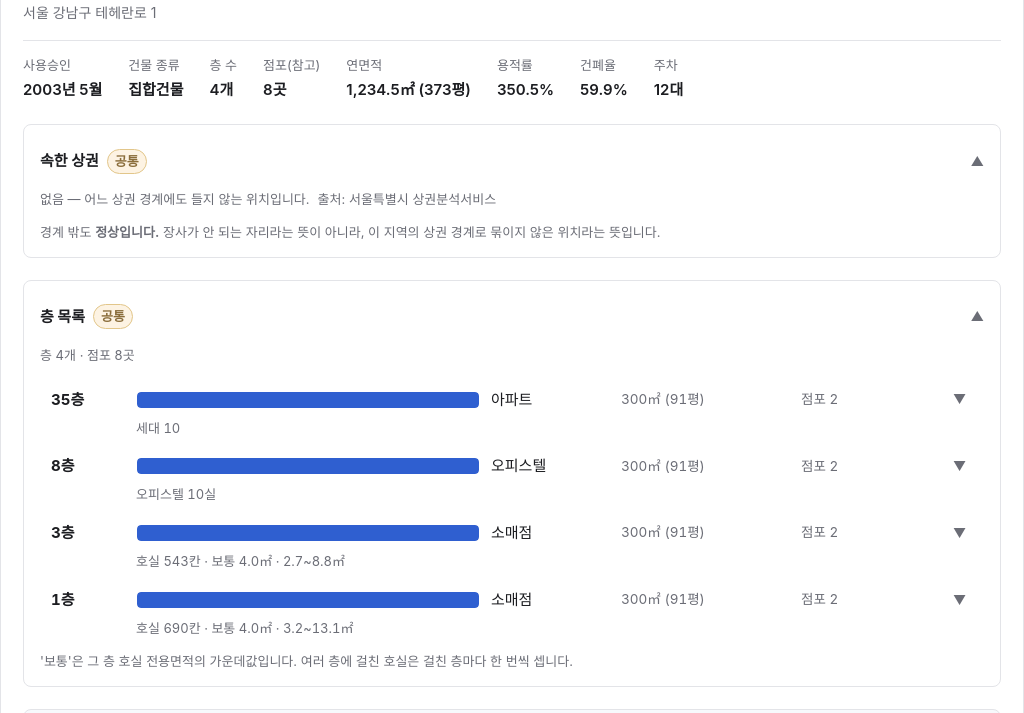
it: FloorStack — 호실 구성표 (결정 0032) › 목록 제공 층(commercial)에는 섞임 안내를 붙이지 않는다
expect the number of elements with class "floor__units" is 4: met, box [136, 420, 180, 436]; [136, 486, 216, 502]; [136, 553, 345, 569]; [136, 620, 354, 636]
Click the button with class "floor__row" showing "1층 소매점 300㎡ (91평) 점포 2 ▼".
click(512, 600)  # box [40, 578, 984, 622]
(page scrolled)
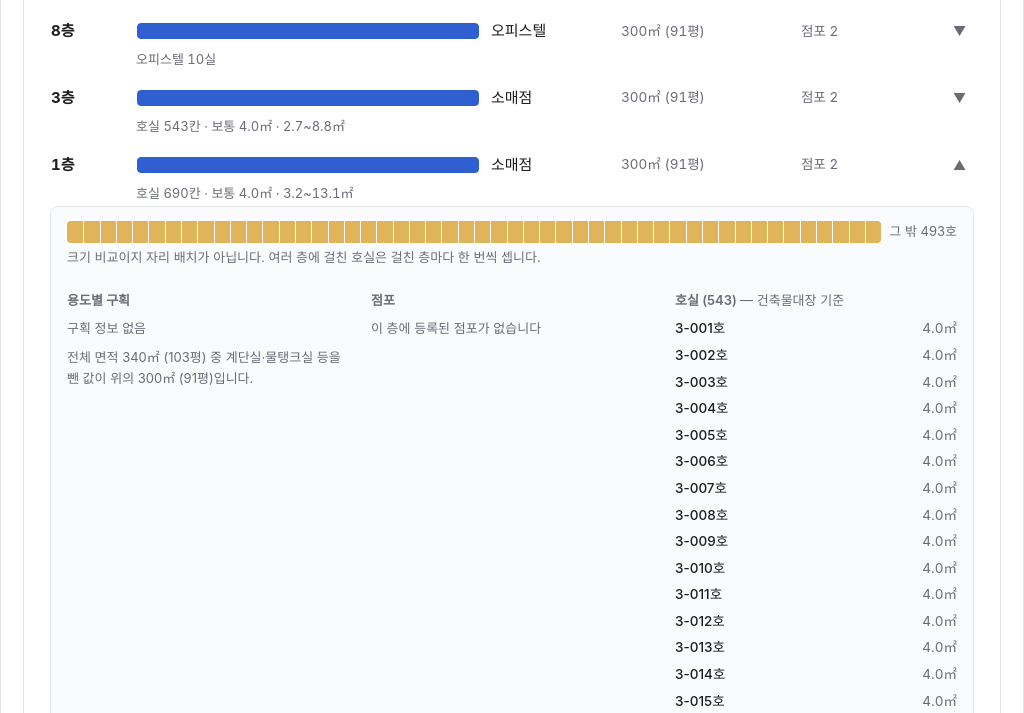
expect the list item "3-001호 4.0㎡" is shown: met, box [675, 318, 957, 340]
